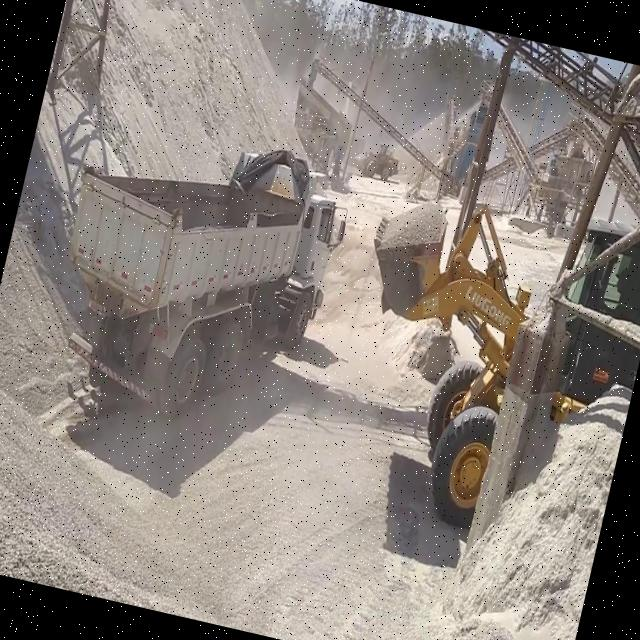Dump Truck: (33, 112, 358, 444)
Loader: (313, 165, 640, 557), (348, 138, 402, 184)
